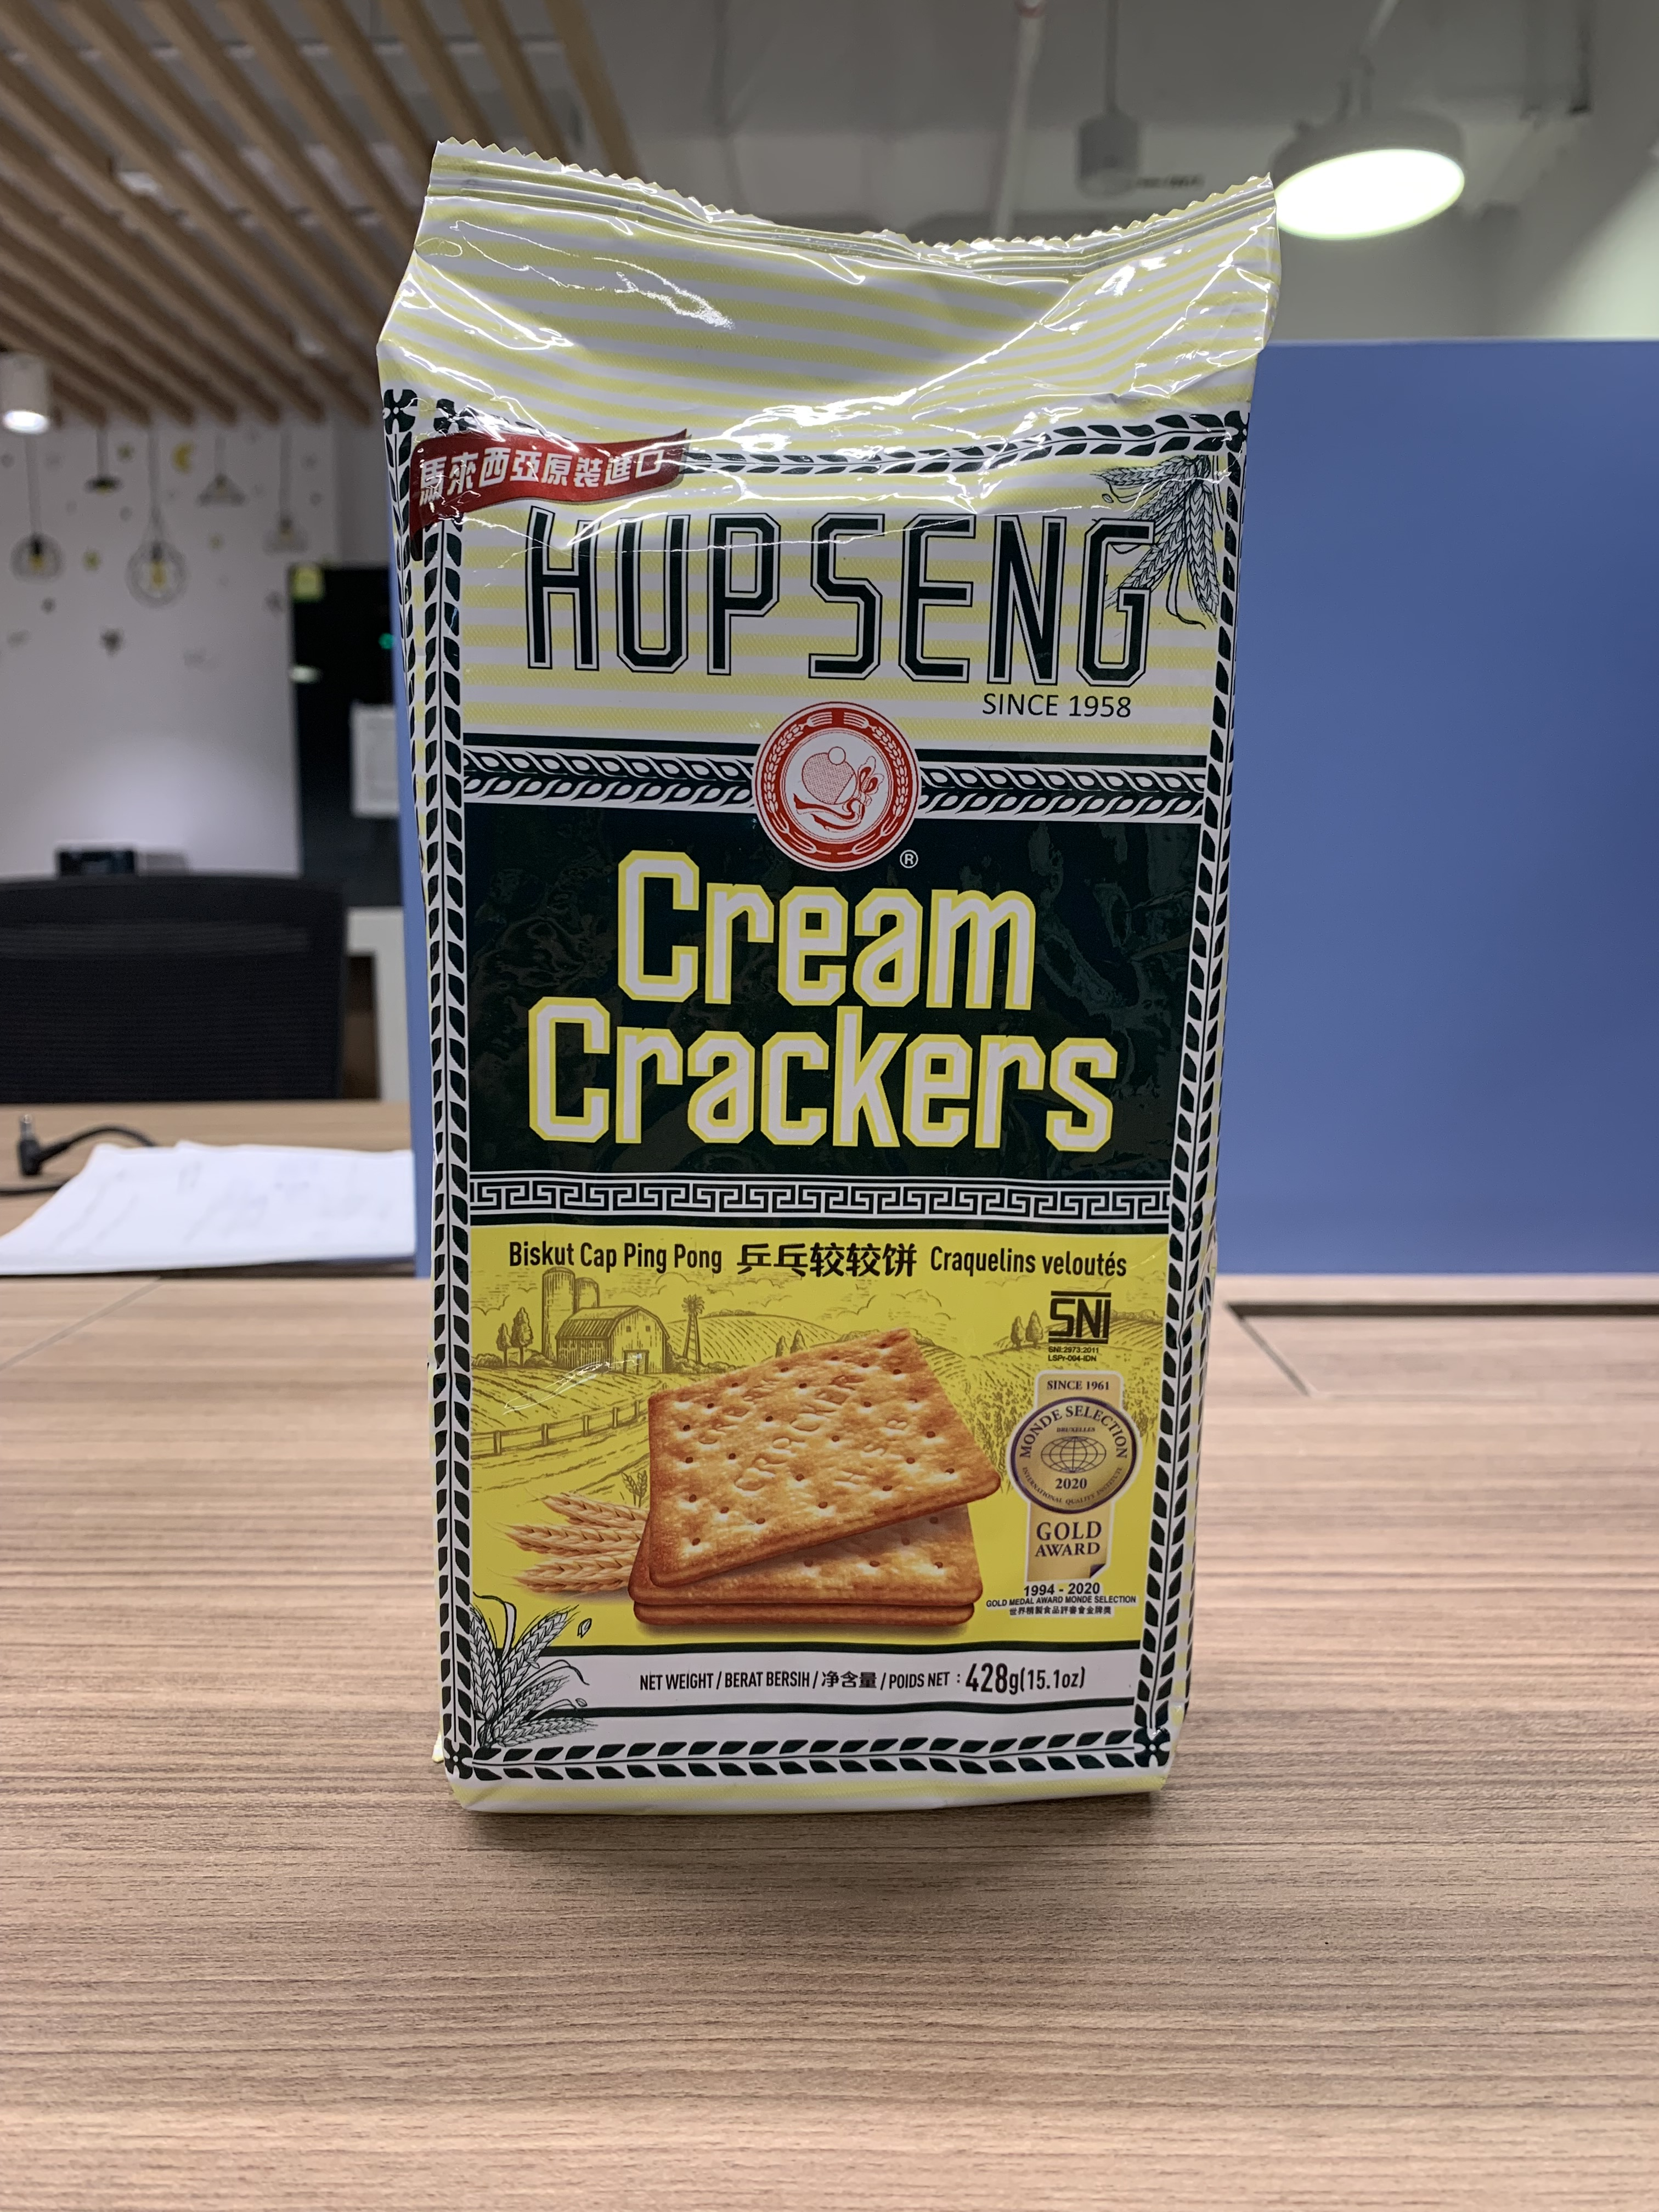crackers: (333, 150, 1298, 1831)
